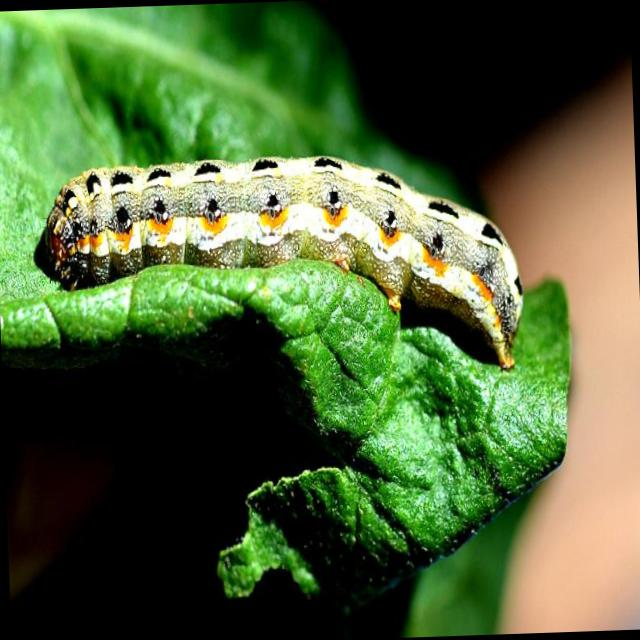Armyworm: (26, 88, 539, 405)
